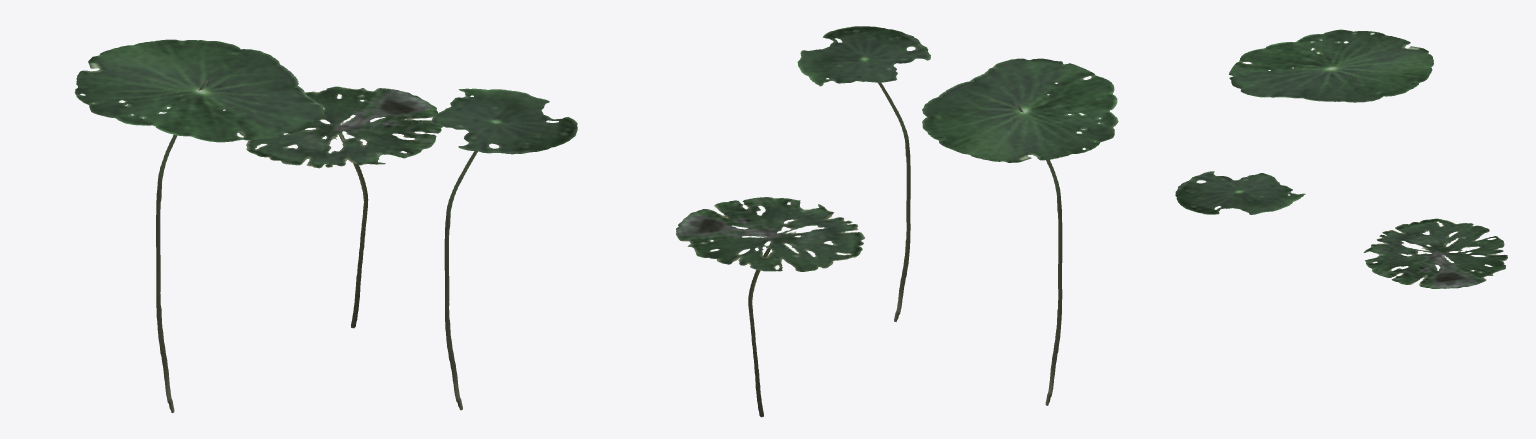
File: arden_forest_water_plants_01_foliage.fbx
The picture shows the model from 3 angles, left to right: view 1: azimuth 30°, elevation 25°; view 2: azimuth 150°, elevation 25°; view 3: azimuth 270°, elevation 25°; orthographic projection. The views are drawn at different scales.
Visible parts, largest first — view 1: arden_forest_water_plants_01_foliage; view 2: arden_forest_water_plants_01_foliage; view 3: arden_forest_water_plants_01_foliage.
Boxes of the visible parts, x1,y1,x2,y2 form: arden_forest_water_plants_01_foliage: (74, 39, 577, 412); arden_forest_water_plants_01_foliage: (676, 26, 1118, 417); arden_forest_water_plants_01_foliage: (1175, 29, 1507, 288).
Size of the model in its own units: 52.14 by 39.14 by 44.84.
